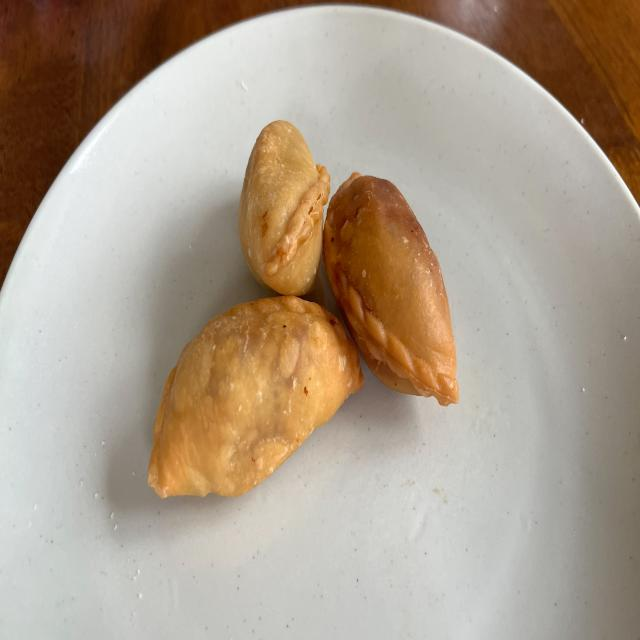karipap: (148, 296, 364, 498), (322, 173, 459, 407), (239, 120, 330, 296)
